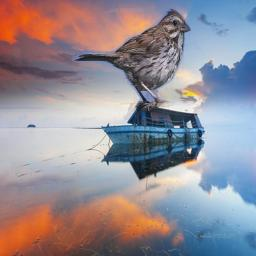Sparrow: (72, 6, 191, 111)
